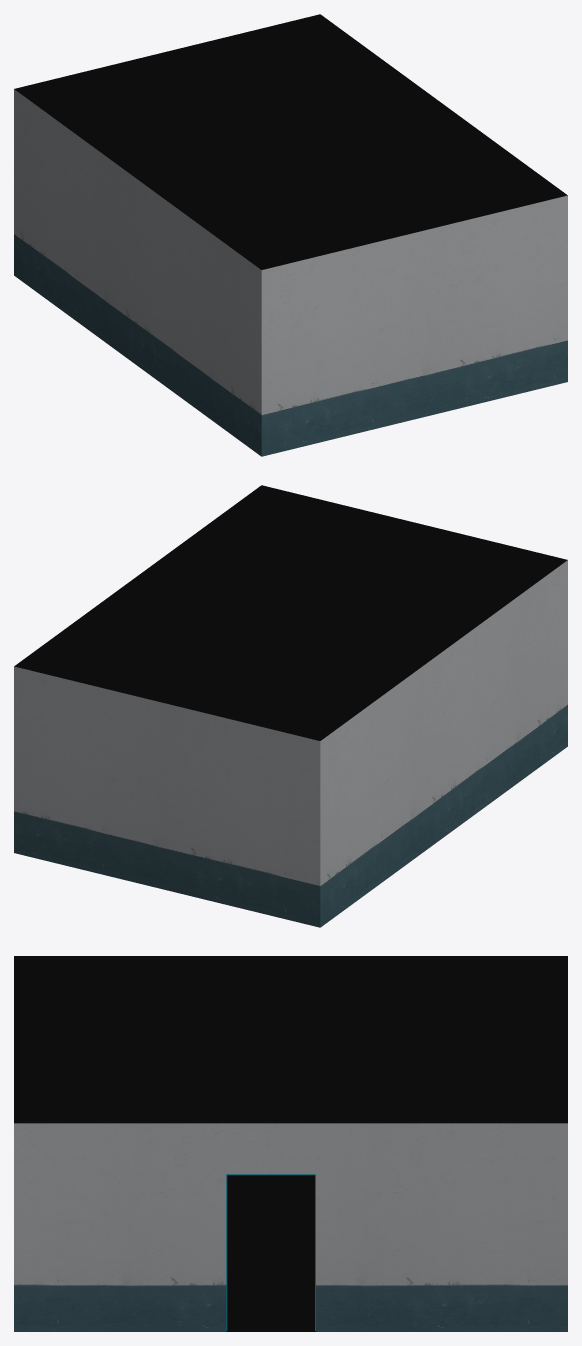
Rendered from Room_Triage_NoBake.FBX.
The picture shows the model from 3 angles, top to bottom: view 1: azimuth 30°, elevation 25°; view 2: azimuth 150°, elevation 25°; view 3: azimuth 270°, elevation 25°; orthographic projection. The views are drawn at different scales.
Parts seen in each view (by area): view 1: Room_Triage_UnBaked; view 2: Room_Triage_UnBaked; view 3: Room_Triage_UnBaked.
Part boxes in pixels (<box>): Room_Triage_UnBaked: <box>14,14,567,456</box>; Room_Triage_UnBaked: <box>14,485,567,927</box>; Room_Triage_UnBaked: <box>14,956,567,1331</box>.
Size of the model in its own units: 199 by 116 by 278.
